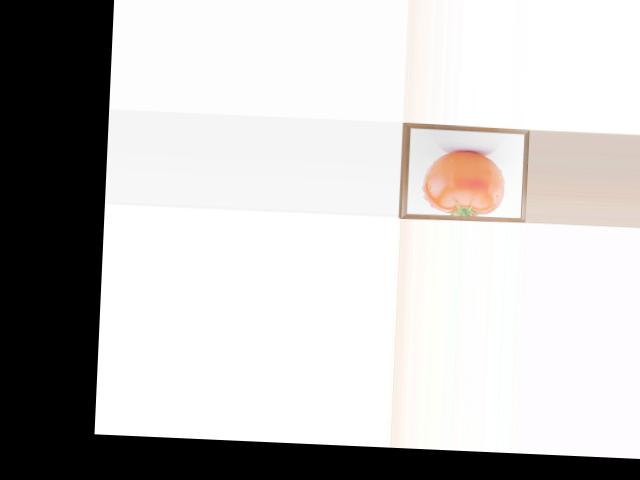tomato: (421, 148, 505, 218)
